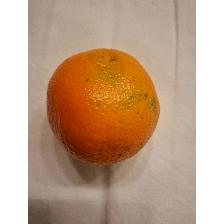Mandarine: (44, 46, 162, 166)
